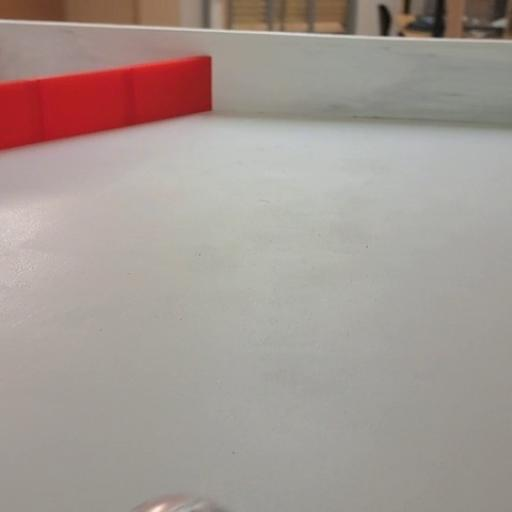alive: (131, 494, 227, 512)
